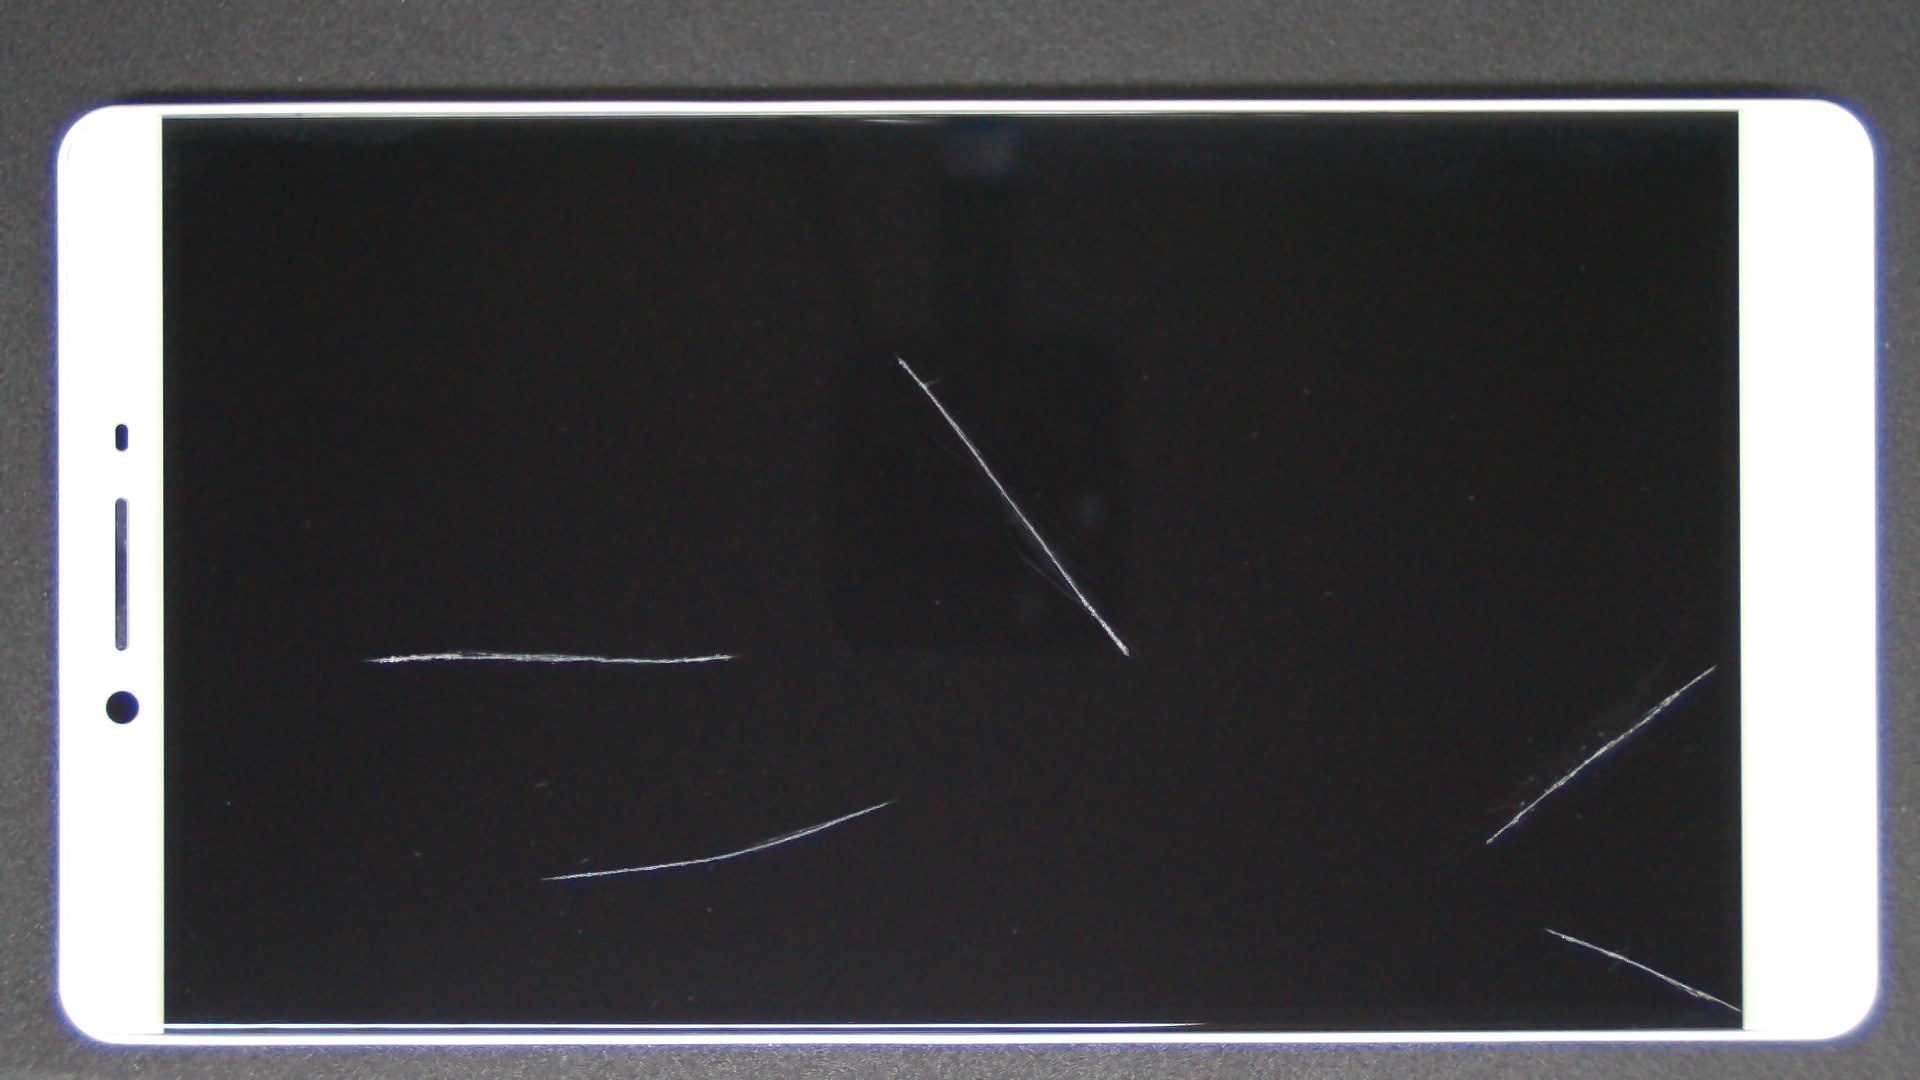oil: (771, 463, 1920, 1080), (858, 331, 1920, 997), (444, 400, 1332, 1080), (448, 175, 1344, 533), (223, 323, 669, 972)
